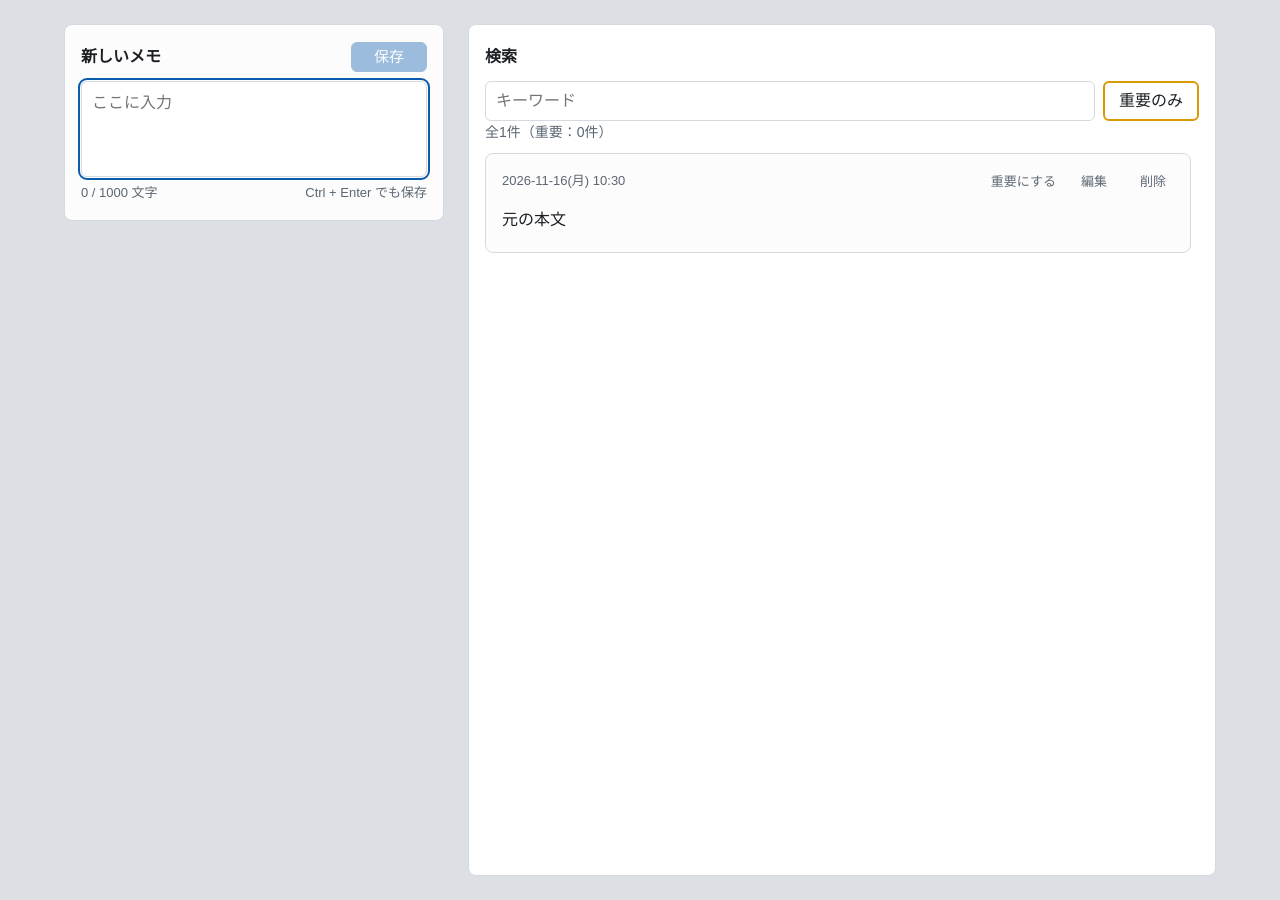
Test: 編集（F4） › Esc で取り消すと、送らずに元の本文に戻る
The width and height of the screenshot is (1280, 900).
Expected: the text "元の本文" is shown, left=502, top=211, right=566, bottom=228
Click the button "編集".
click(1094, 182)  # box left=1070, top=169, right=1118, bottom=195
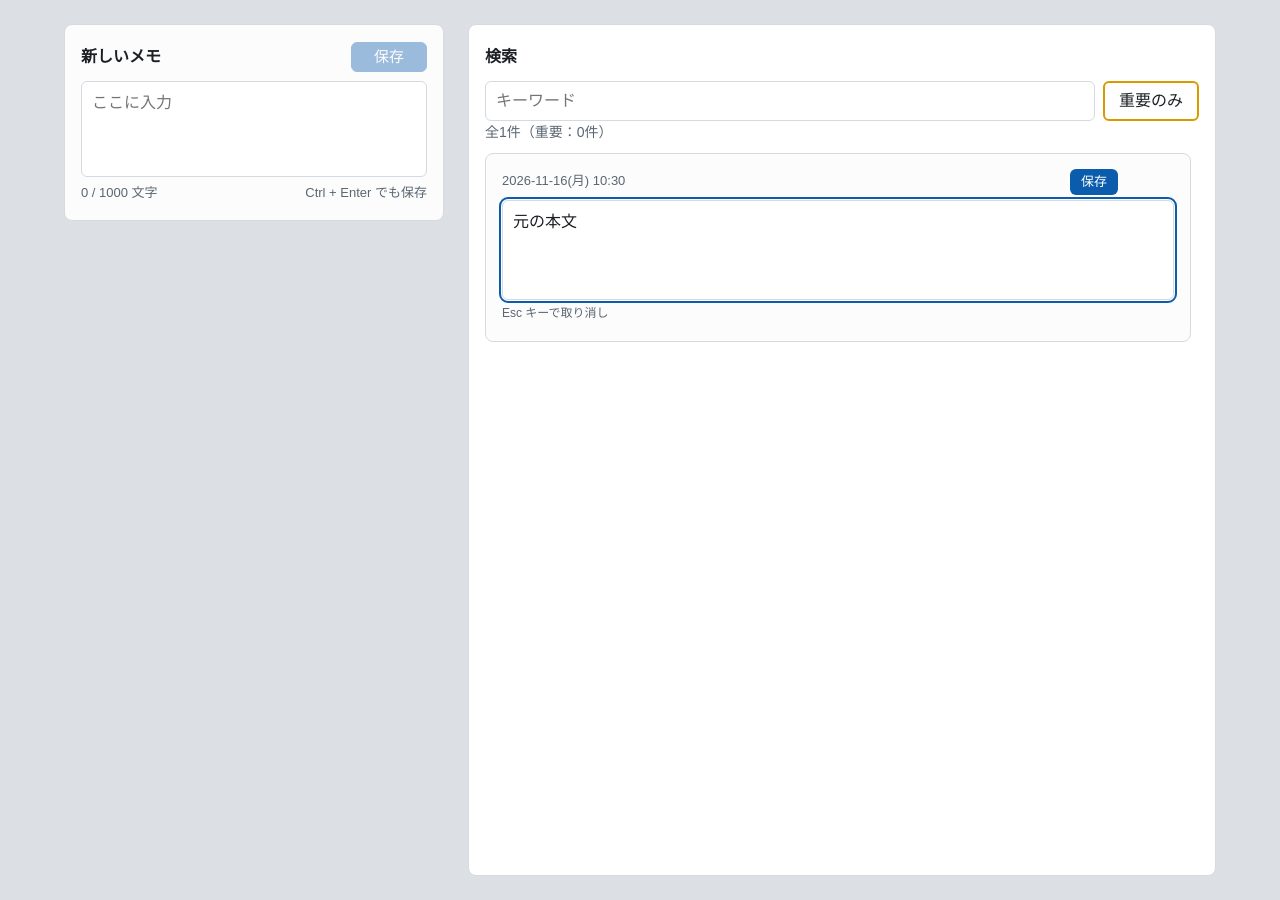
Type "やっぱりやめる" into the text box named "メモの本文を編集".
click(838, 250); type("やっぱりやめる")  # box left=502, top=200, right=1174, bottom=300
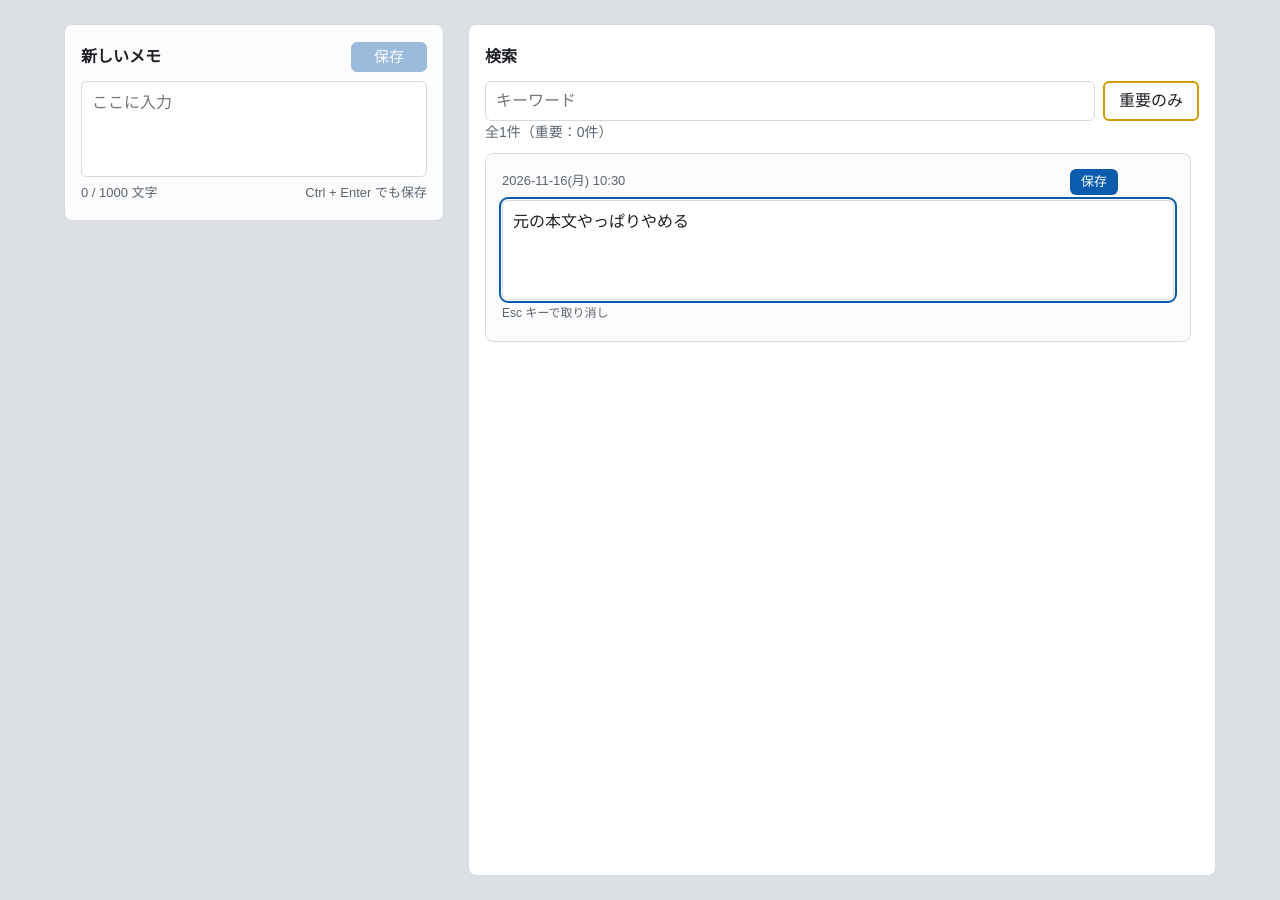
Press Escape
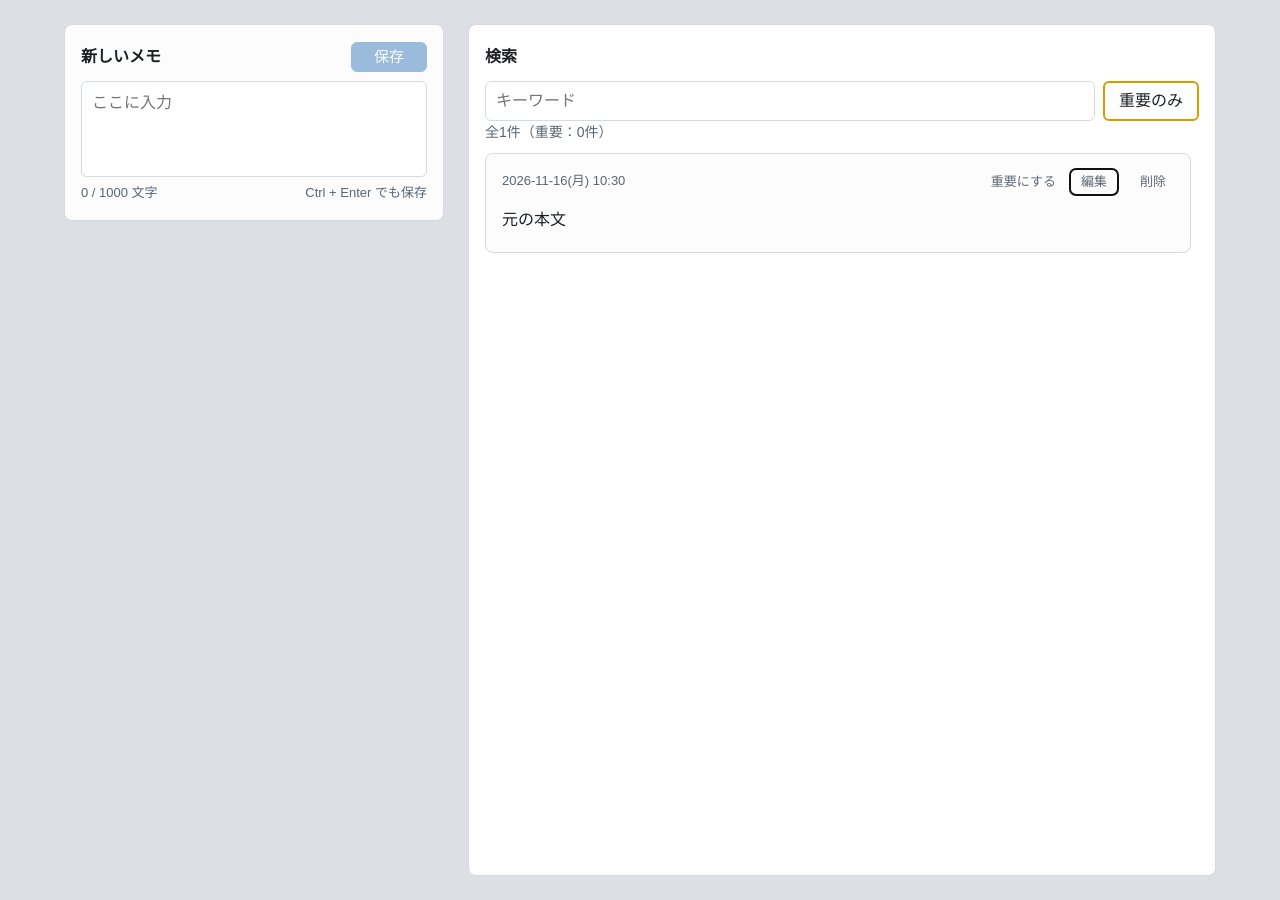
Expected: the text "元の本文" is shown, left=502, top=211, right=566, bottom=228
Expected: the text box labelled "メモの本文を編集" is gone
// もう一度「編集」を押すと、元の本文から始まる（取り消した文章は残らない）
Click the button "編集".
click(1094, 182)  # box left=1070, top=169, right=1118, bottom=195
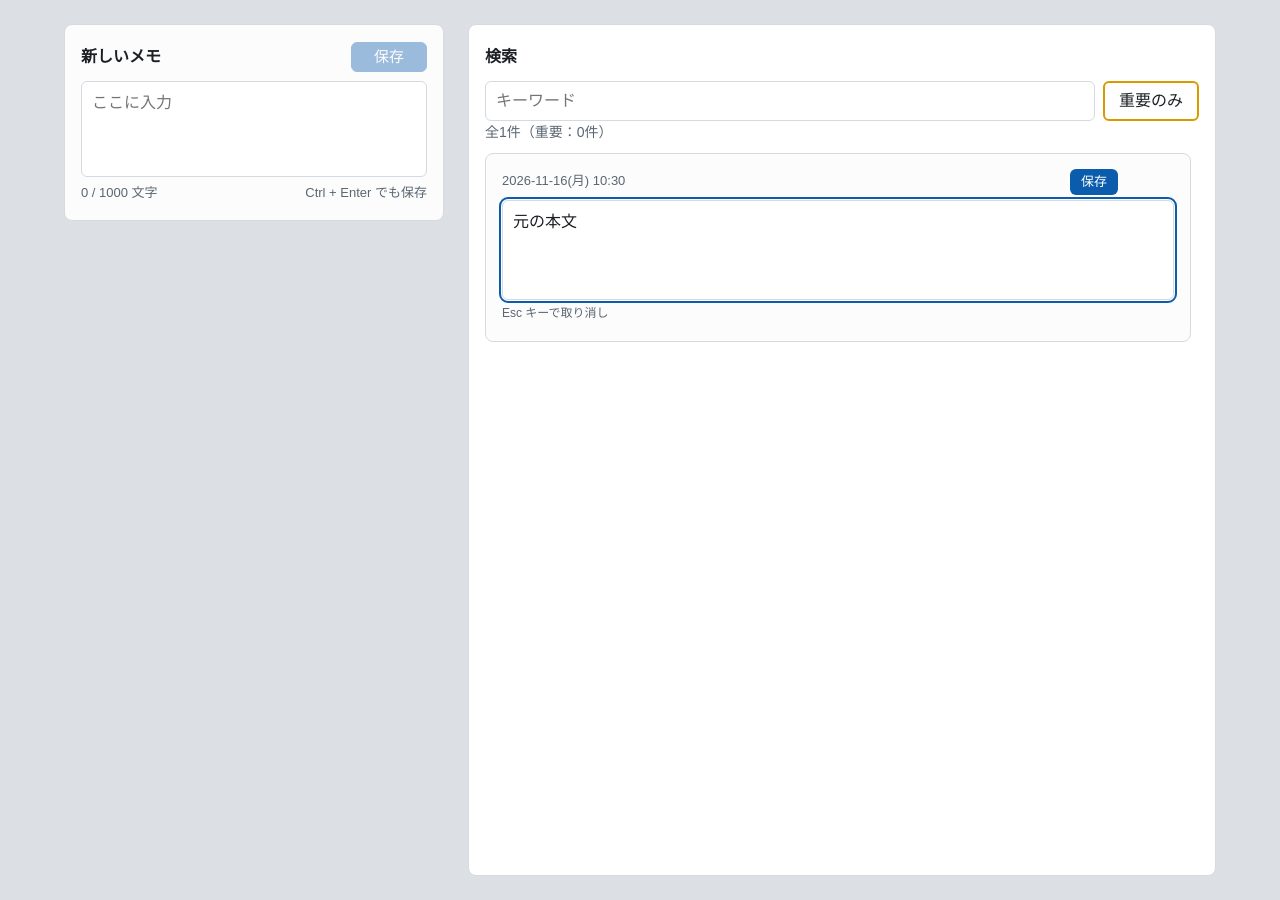
Expected: the text box named "メモの本文を編集" holds "元の本文", left=502, top=200, right=1174, bottom=300
